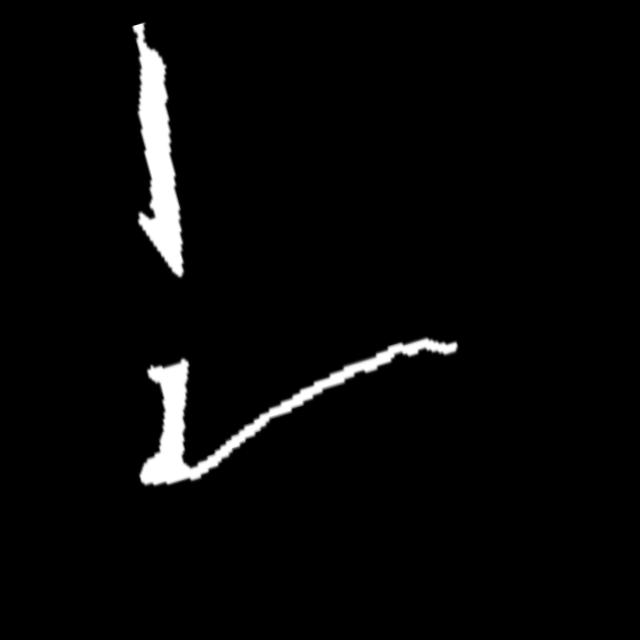sl: (122, 19, 173, 82)
